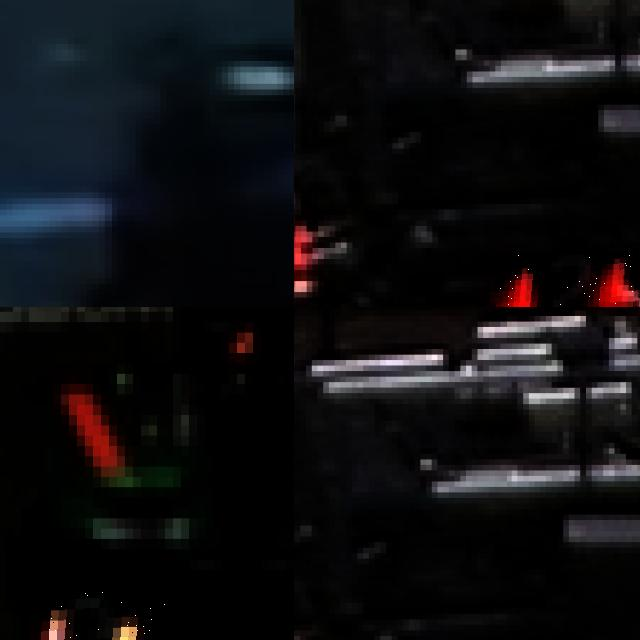R2: (495, 253, 640, 307)
Rs: (37, 590, 165, 640)
